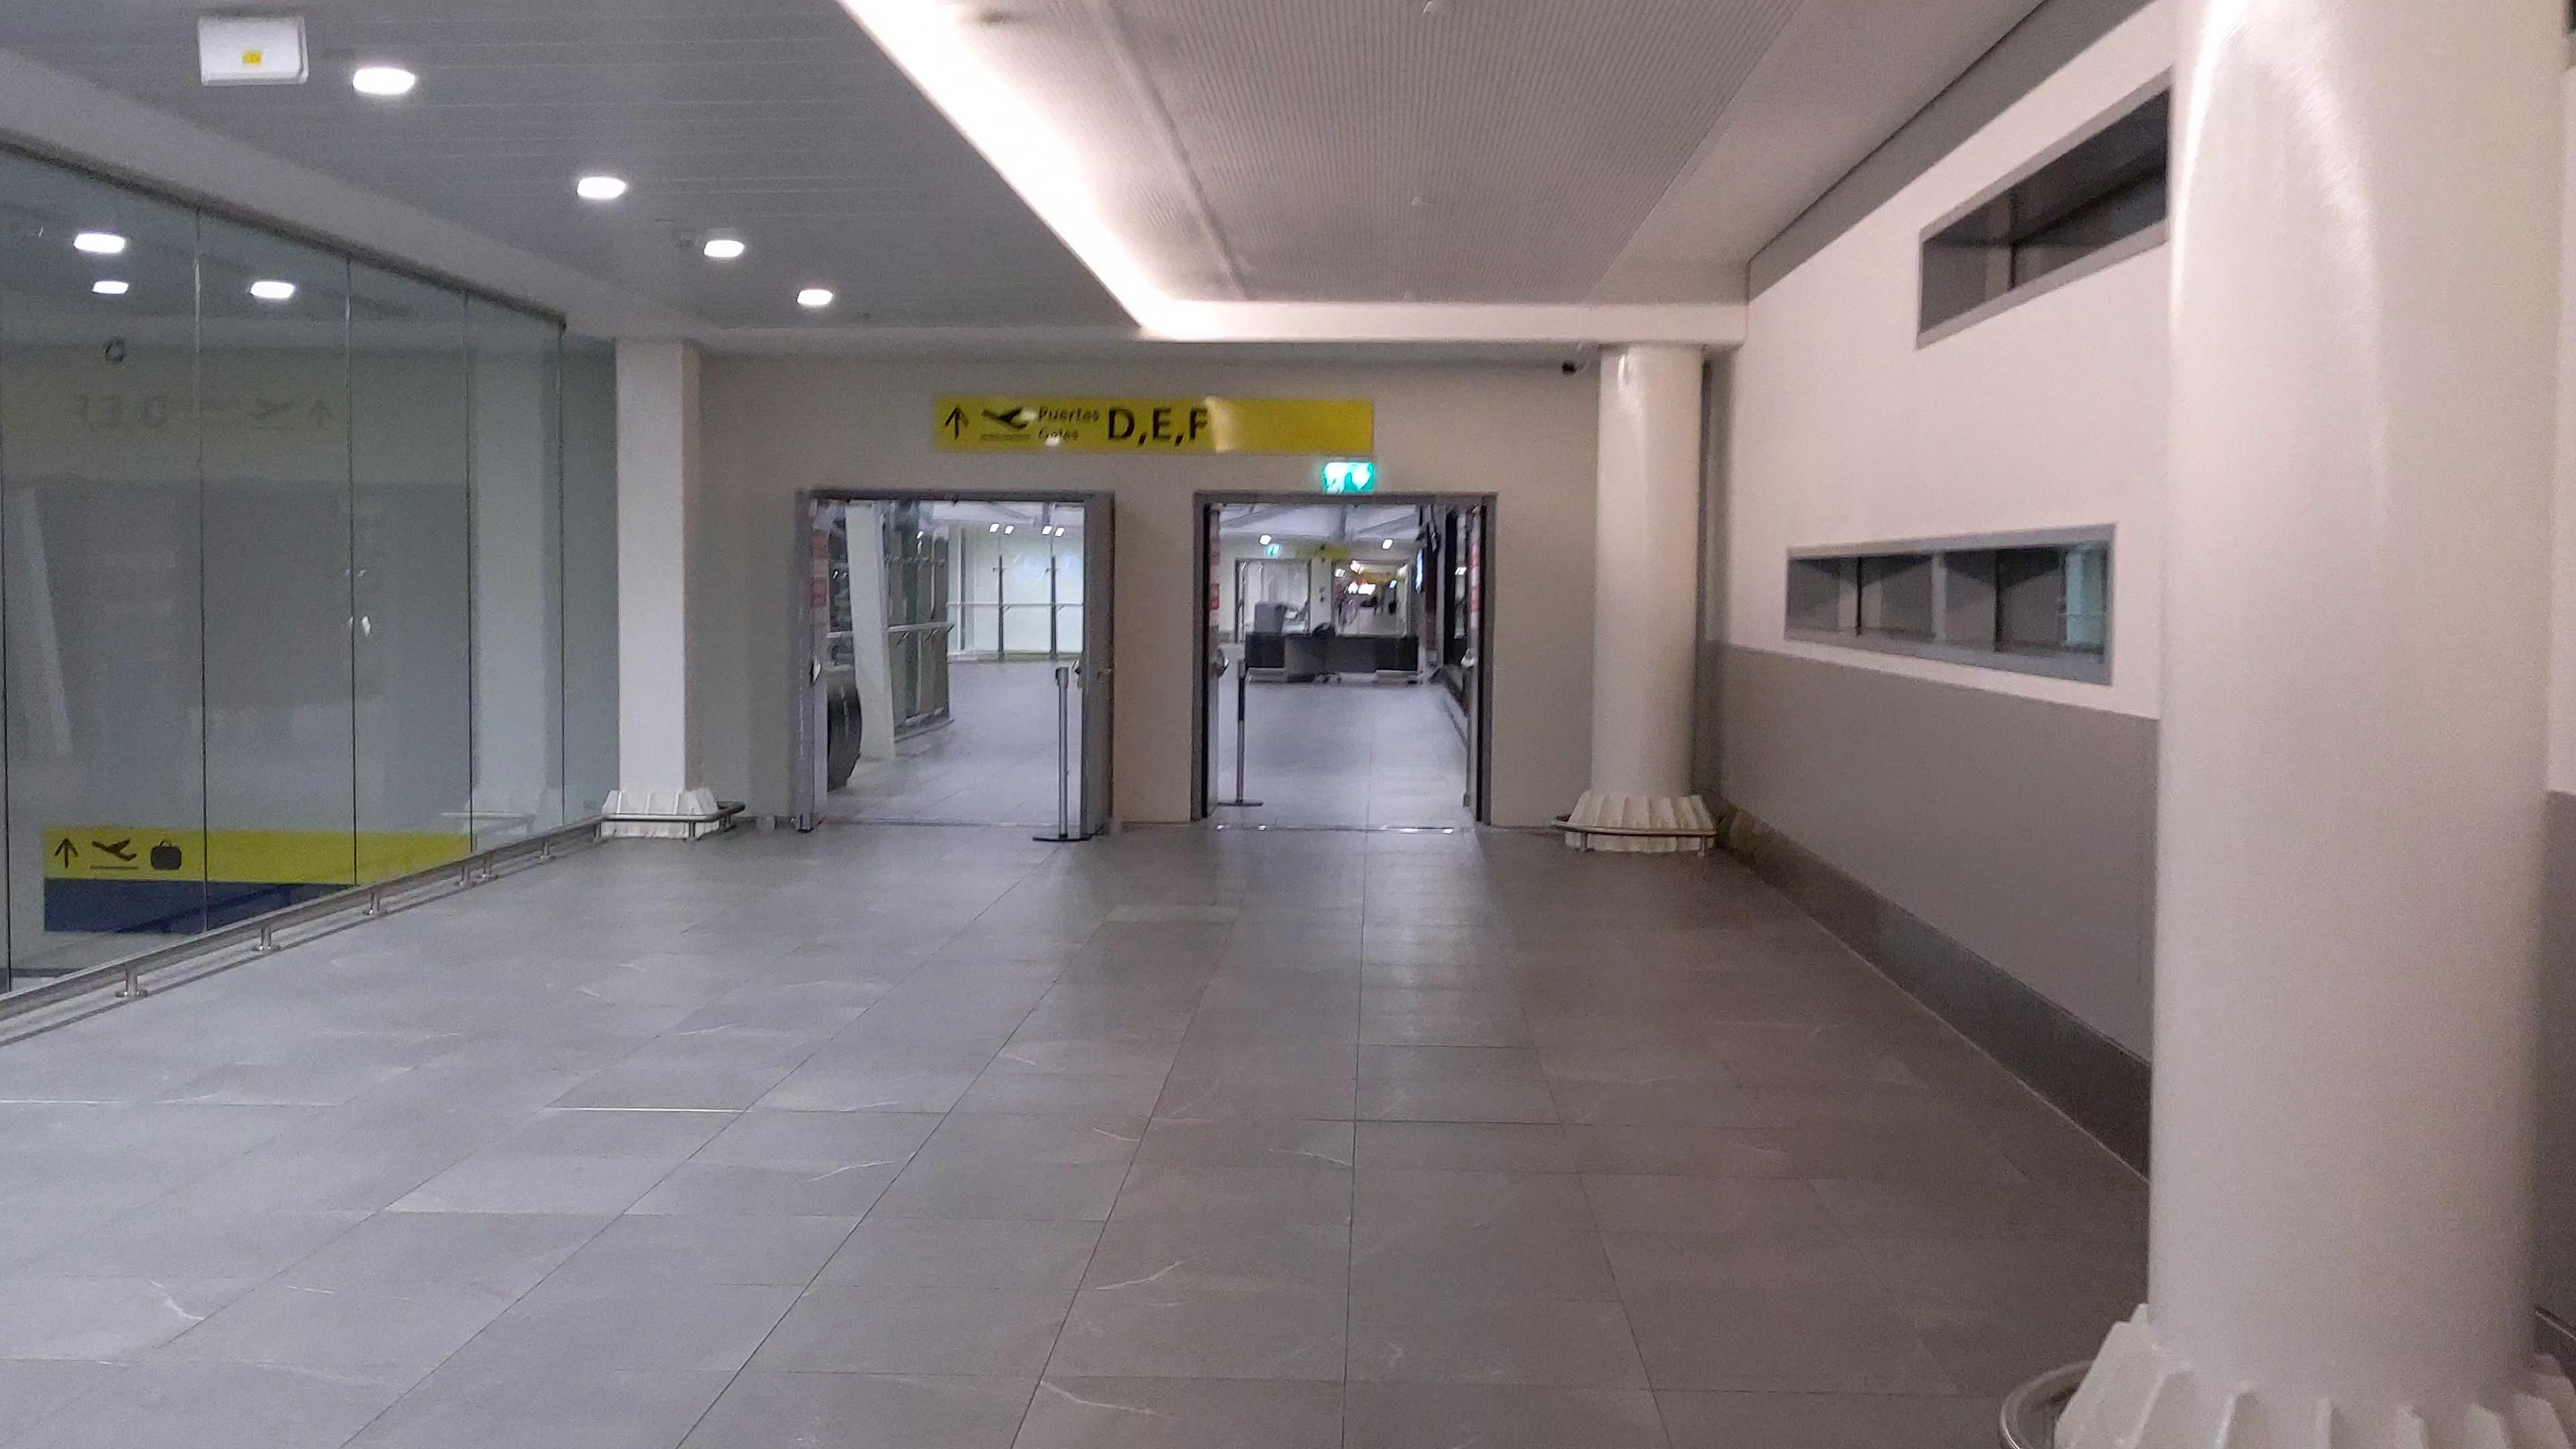airplane symbol: (980, 403, 1030, 432)
thin up arrow: (943, 403, 971, 444)
